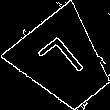L_SE: (35, 33, 93, 91)
